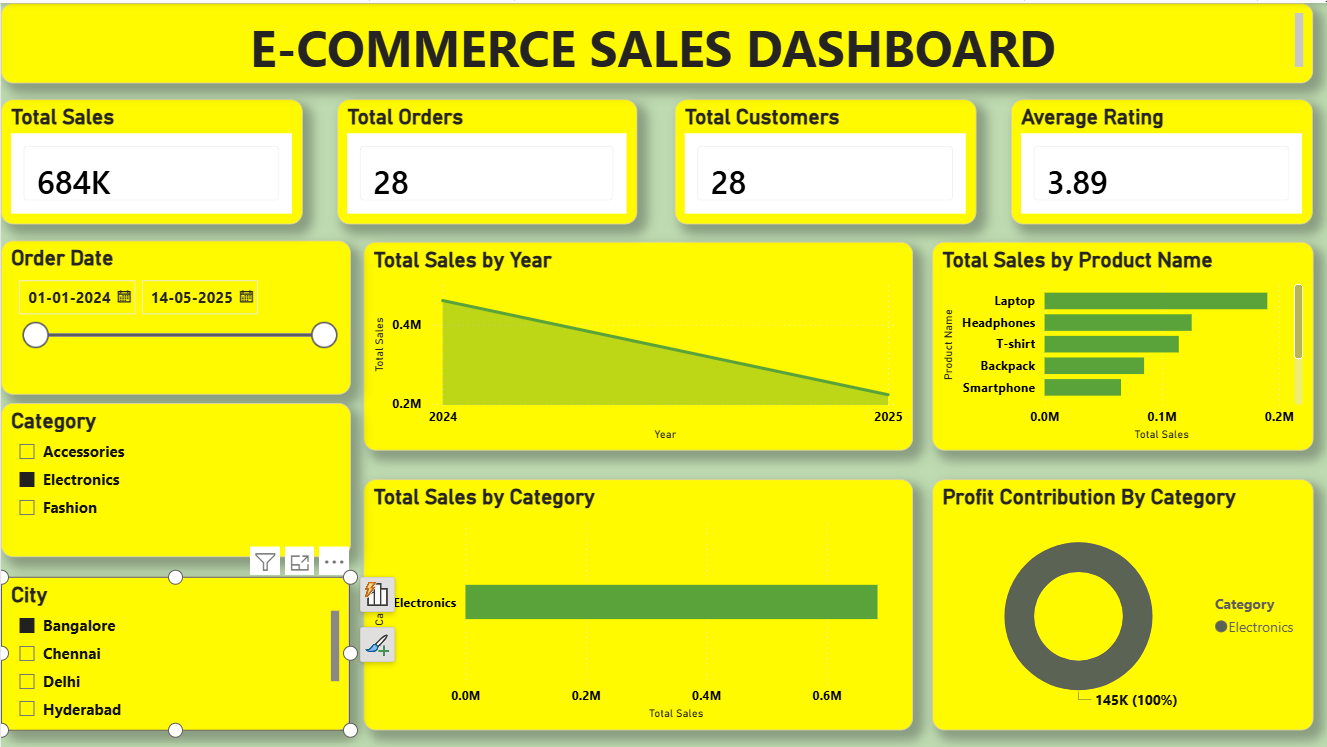

This screenshot's page, from the dashboard's own definition file:
{"tool":"powerbi","page":{"name":"Page 1","canvas":[1280,720],"ordinal":0},"visuals":[{"type":"areaChart","fields":{"Category":["ecommerce.Order Date.Variation.Date Hierarchy.Year","ecommerce.Order Date.Variation.Date Hierarchy.Quarter","ecommerce.Order Date.Variation.Date Hierarchy.Month","ecommerce.Order Date.Variation.Date Hierarchy.Day"],"Y":["ecommerce.Total Sales"]},"box":[349.7,229.9,530.7,201.8],"z":0},{"type":"donutChart","title":"Profit Contribution By Category","fields":{"Category":["ecommerce.Category"],"Y":["Sum(ecommerce.Profit)"]},"box":[898.8,459.8,368.1,242.1],"z":1000},{"type":"clusteredBarChart","fields":{"Category":["ecommerce.Category"],"Y":["ecommerce.Total Sales"]},"box":[349.7,459.8,530.7,242.1],"z":2000},{"type":"barChart","fields":{"Category":["ecommerce.Product Name"],"Y":["ecommerce.Total Sales"]},"box":[898.8,229.9,368.1,201.8],"z":3000},{"type":"slicer","title":"Order Date ","fields":{"Values":["ecommerce.Order Date"]},"box":[0,229.4,337.6,148.6],"z":4000},{"type":"slicer","title":"Category","fields":{"Values":["ecommerce.Category"]},"box":[0,386.7,337.6,148.6],"z":5000},{"type":"slicer","title":"City","fields":{"Values":["ecommerce.City"]},"box":[0,554,336.2,148.6],"z":6000},{"type":"cardVisual","title":"Total Sales","fields":{"Data":["ecommerce.Total Sales"]},"box":[0,92.3,291.4,121.2],"z":7000},{"type":"cardVisual","title":"Total Orders","fields":{"Data":["ecommerce.Total Orders"]},"box":[324.6,92.3,290,121.2],"z":8000},{"type":"cardVisual","title":"Average Rating","fields":{"Data":["ecommerce.Avg Rating"]},"box":[975.3,92.3,291.4,121.2],"z":9000},{"type":"cardVisual","title":"Total Customers","fields":{"Data":["ecommerce.Total Customers"]},"box":[650.7,92.3,291.4,121.2],"z":10000},{"type":"textbox","box":[0,0,1266.7,77.3],"z":11000}]}

Visuals, with their boxes in screenshot pixels (x1, y1, x2, y2), scaled from the page's 1280x720 canvas onto the 1327x747 screenshot:
areaChart - ecommerce.Order Date.Variation.Date Hierarchy.Year x ecommerce.Order Date.Variation.Date Hierarchy.Quarter: bbox=[363, 239, 913, 448]
"Profit Contribution By Category" donutChart: bbox=[932, 477, 1313, 728]
clusteredBarChart - ecommerce.Category x ecommerce.Total Sales: bbox=[363, 477, 913, 728]
barChart - ecommerce.Product Name x ecommerce.Total Sales: bbox=[932, 239, 1313, 448]
"Order Date " slicer: bbox=[0, 238, 350, 392]
"Category" slicer: bbox=[0, 401, 350, 555]
"City" slicer: bbox=[0, 575, 349, 729]
"Total Sales" cardVisual: bbox=[0, 96, 302, 222]
"Total Orders" cardVisual: bbox=[337, 96, 637, 222]
"Average Rating" cardVisual: bbox=[1011, 96, 1313, 222]
"Total Customers" cardVisual: bbox=[675, 96, 977, 222]
textbox: bbox=[0, 0, 1313, 80]
